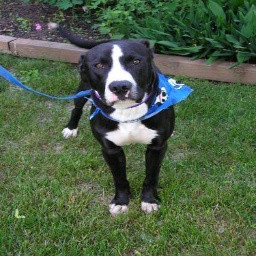dog: (54, 20, 179, 218)
